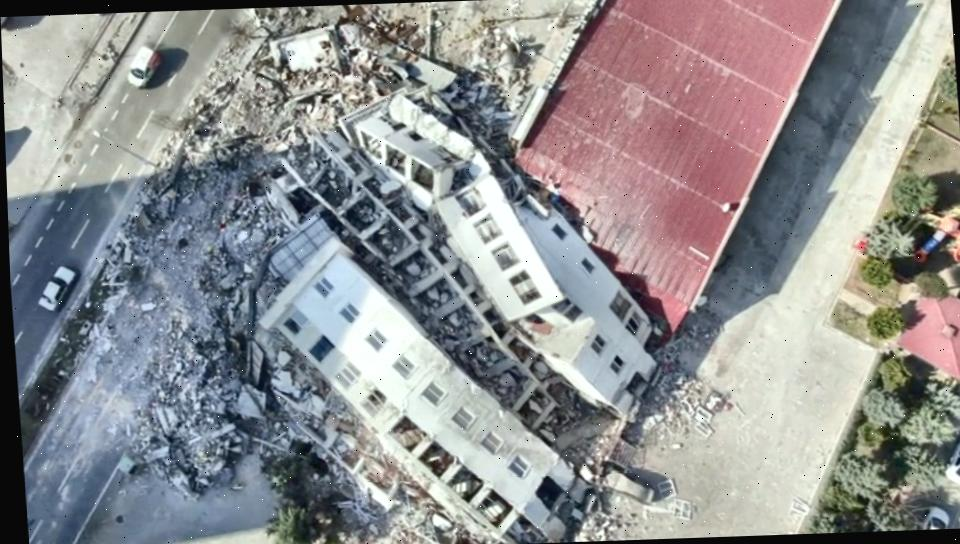kapali: (32, 4, 373, 491)
